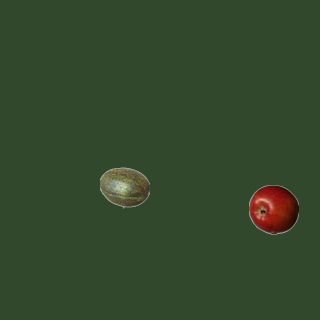Apple Braeburn: (248, 184, 298, 234)
Melon Piel de Sapo: (99, 162, 149, 212)
